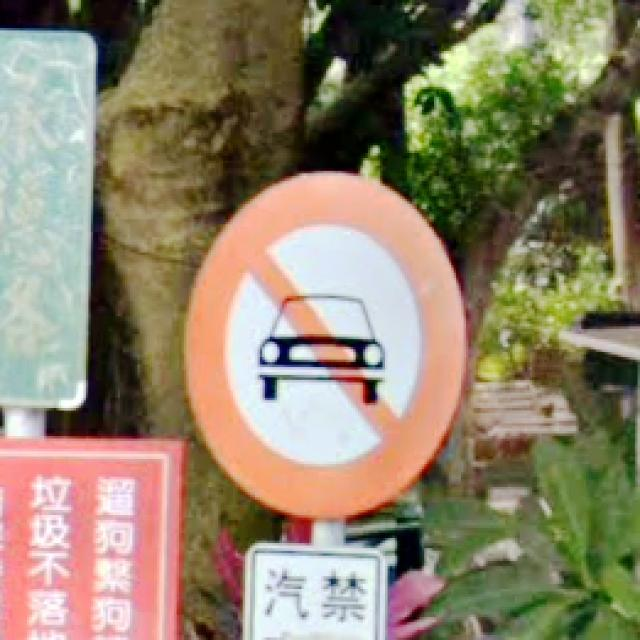nocar: (184, 173, 466, 523)
